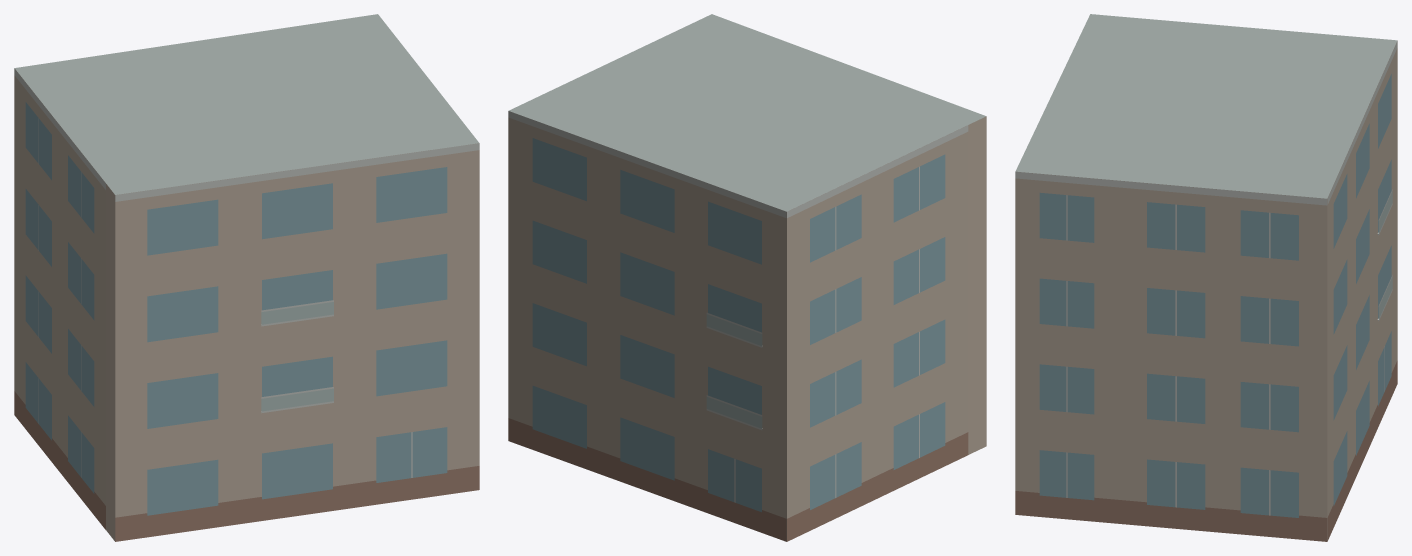
The model's file is survey-upis-33036418.glb.
3 renders of one model, left to right at view 1: azimuth 30°, elevation 25°; view 2: azimuth 150°, elevation 25°; view 3: azimuth 270°, elevation 25°, orthographic. The views are drawn at different scales.
Parts seen in each view (by area): view 1: survey-upis-33036418.tmp; view 2: survey-upis-33036418.tmp; view 3: survey-upis-33036418.tmp.
Boxes of the visible parts, x1,y1,x2,y2 form: survey-upis-33036418.tmp: [14, 14, 479, 541]; survey-upis-33036418.tmp: [508, 14, 986, 541]; survey-upis-33036418.tmp: [1015, 14, 1397, 541].
Size of the model in its own units: 14.09 by 12.2 by 12.33.
